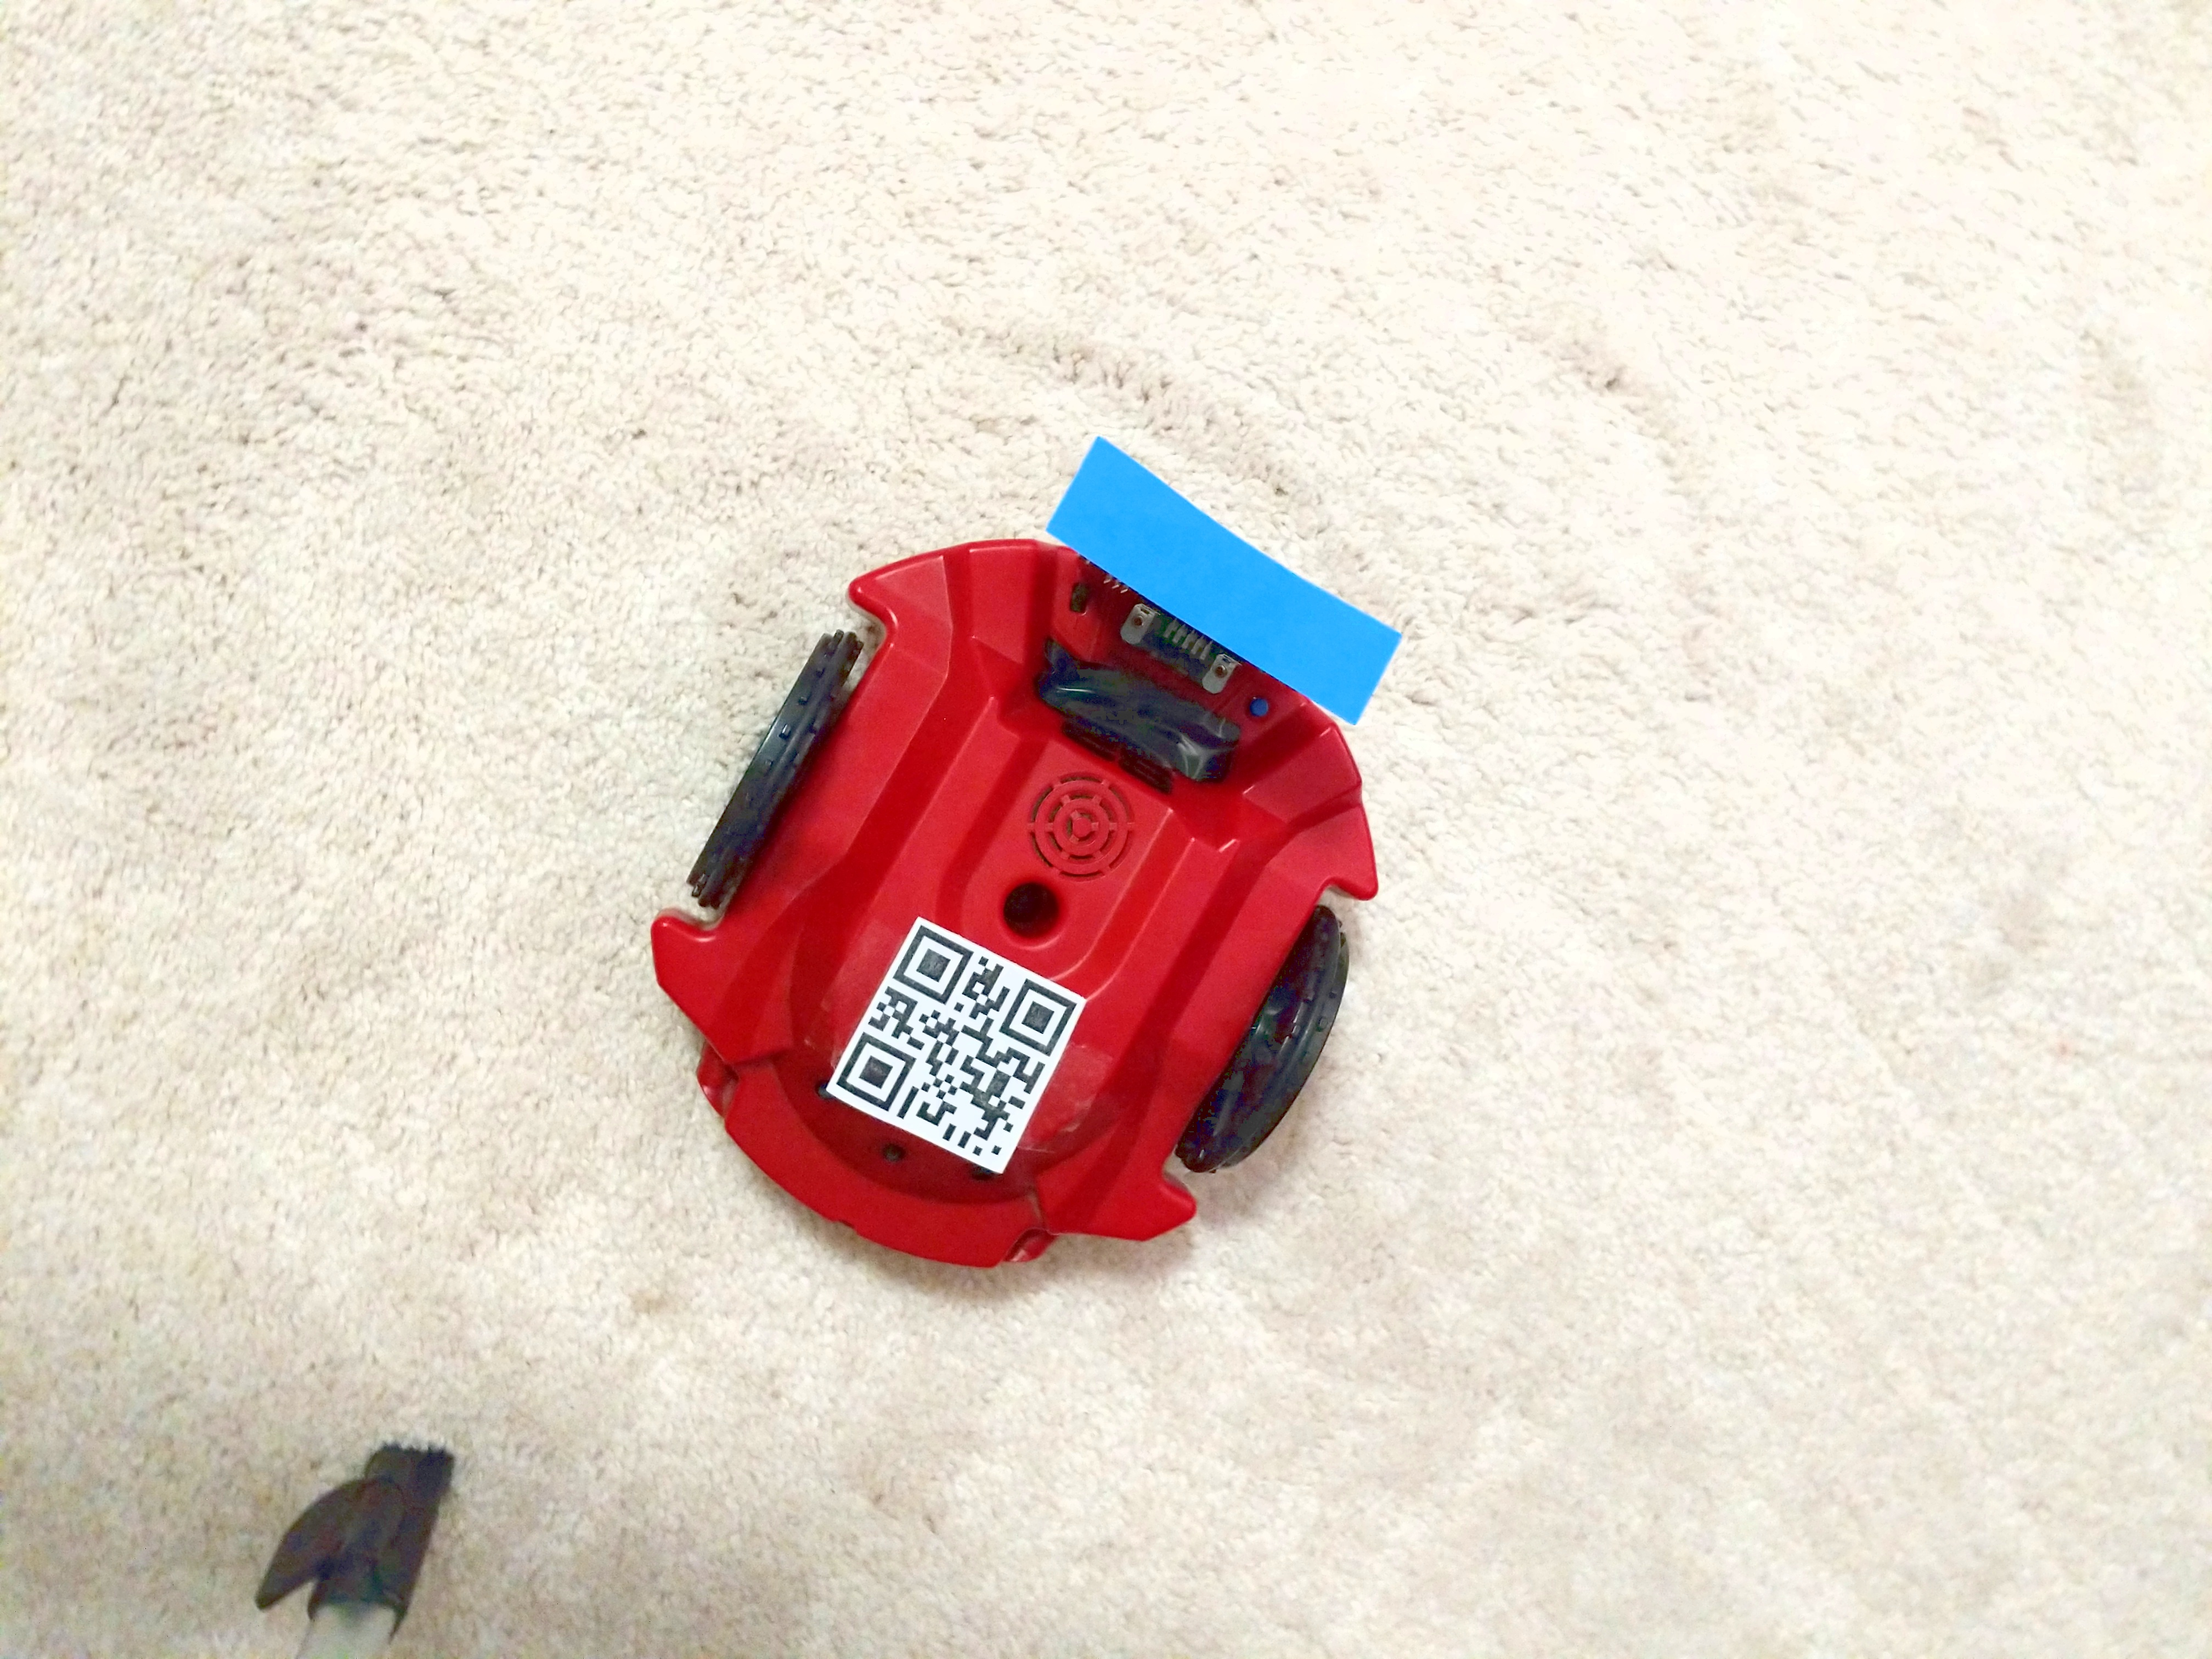board: (803, 931, 1179, 1223)
chassis: (759, 295, 1611, 1274)
